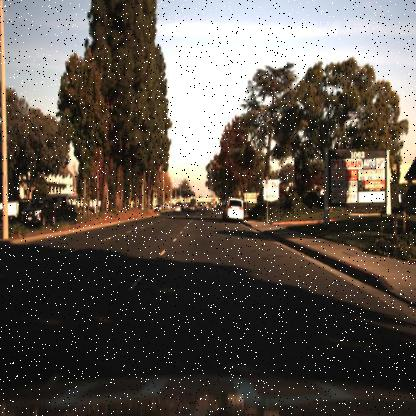car: (22, 197, 56, 229), (222, 195, 250, 223), (185, 200, 197, 218), (172, 201, 184, 217)
